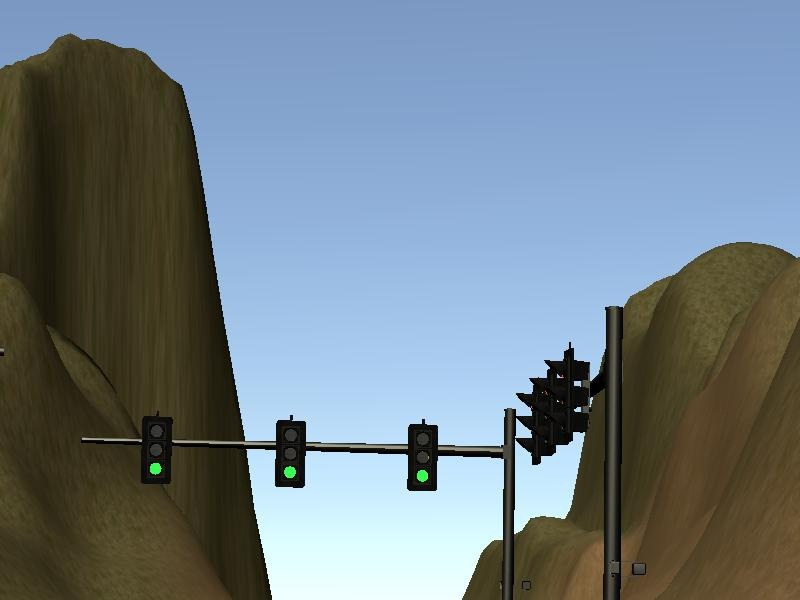green: (403, 418, 442, 493), (139, 417, 172, 482), (275, 421, 303, 485)
